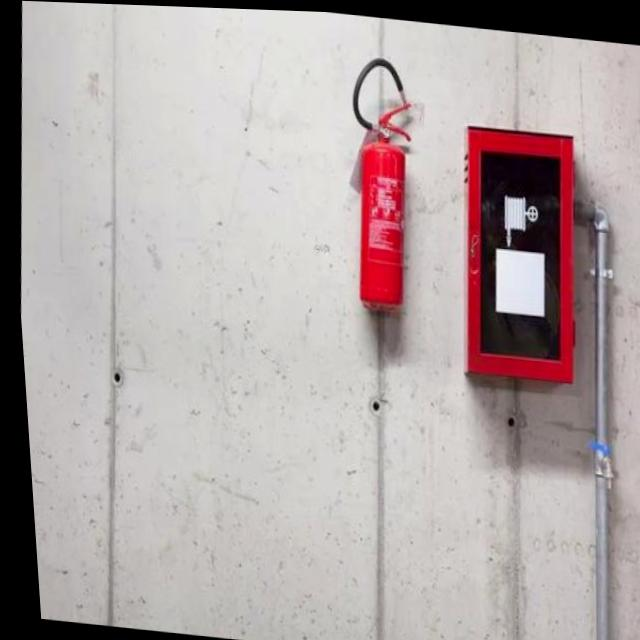FireExtinguisher: (324, 44, 432, 316)
